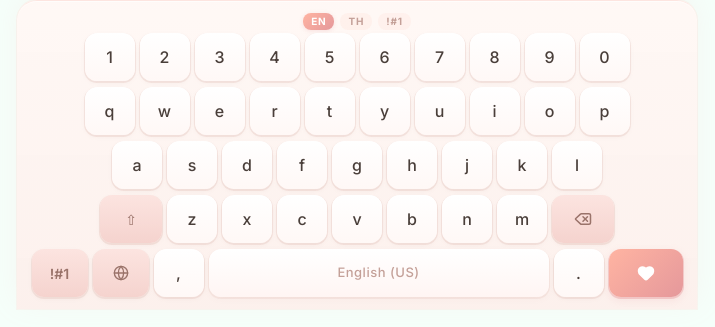
VirtualKeyboard › English Symbol Page 1/2 › shows math operators (+ × ÷ =)
The width and height of the screenshot is (715, 327).
What coordinates should you click on to do the following:
click the button "!#1"
I would click on:
 (60, 273)
Its box is x1=32 y1=249 x2=88 y2=297.
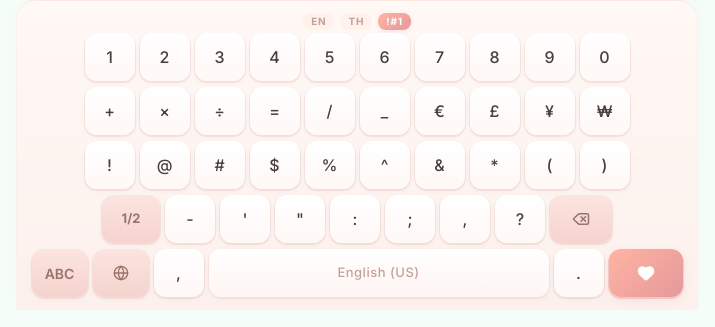
Expected: the button "×" is shown, x1=140 y1=87 x2=190 y2=135
Expected: the button "÷" is shown, x1=194 y1=87 x2=244 y2=135
